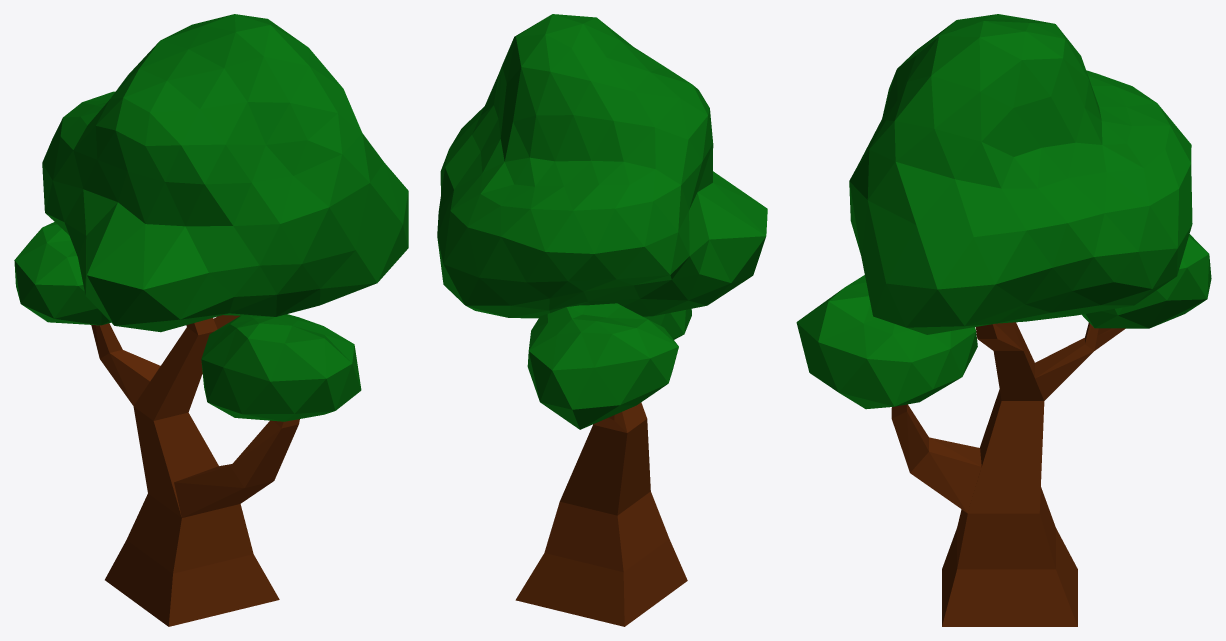
Rendered from tree.gltf.
3 renders of one model, left to right at view 1: azimuth 30°, elevation 25°; view 2: azimuth 150°, elevation 25°; view 3: azimuth 270°, elevation 25°, orthographic. The views are drawn at different scales.
Visible parts, largest first — view 1: Leaves, Trunk; view 2: Leaves, Trunk; view 3: Leaves, Trunk.
Boxes of the visible parts, box(x1,y1,x2,y2) form: Leaves: box(14, 14, 408, 421); Trunk: box(91, 315, 299, 626); Leaves: box(437, 14, 767, 429); Trunk: box(515, 402, 687, 626); Leaves: box(796, 14, 1211, 409); Trunk: box(891, 322, 1125, 626).
Bounding box in the file's own units: 11.89 × 19.97 × 12.65.
